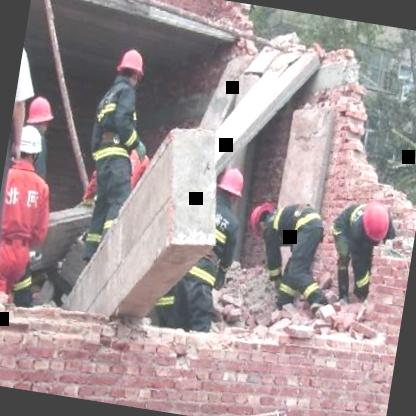helmet: (357, 199, 393, 244), (22, 94, 56, 132), (12, 124, 44, 164), (115, 48, 146, 88), (216, 164, 245, 206), (247, 202, 277, 240)
